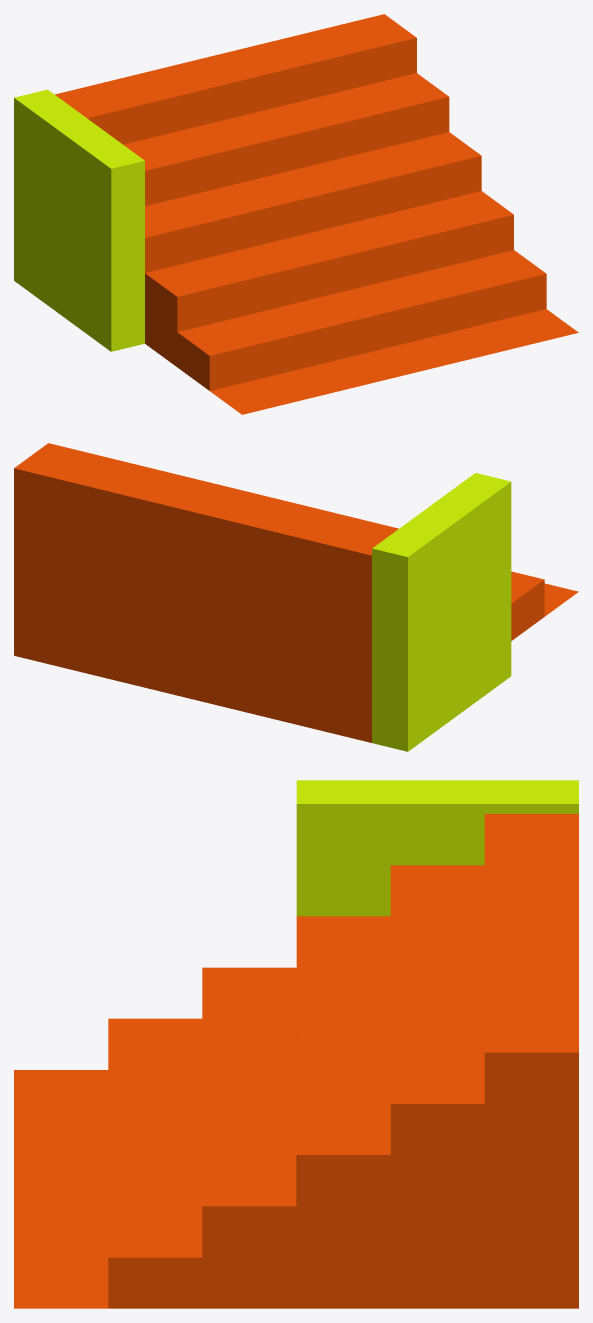
3 views of the same model, one above another, from view 1: azimuth 30°, elevation 25°; view 2: azimuth 150°, elevation 25°; view 3: azimuth 270°, elevation 25° (orthographic). The views are drawn at different scales.
Parts seen in each view (by area): view 1: T_3_e_0; view 2: T_3_e_0; view 3: T_3_e_0.
Part boxes in pixels (x1,y1,x2,y2): T_3_e_0: [14, 14, 578, 414]; T_3_e_0: [14, 443, 578, 751]; T_3_e_0: [14, 780, 578, 1308].
Bounding box in the file's own units: 110 × 51.82 × 99.81.
